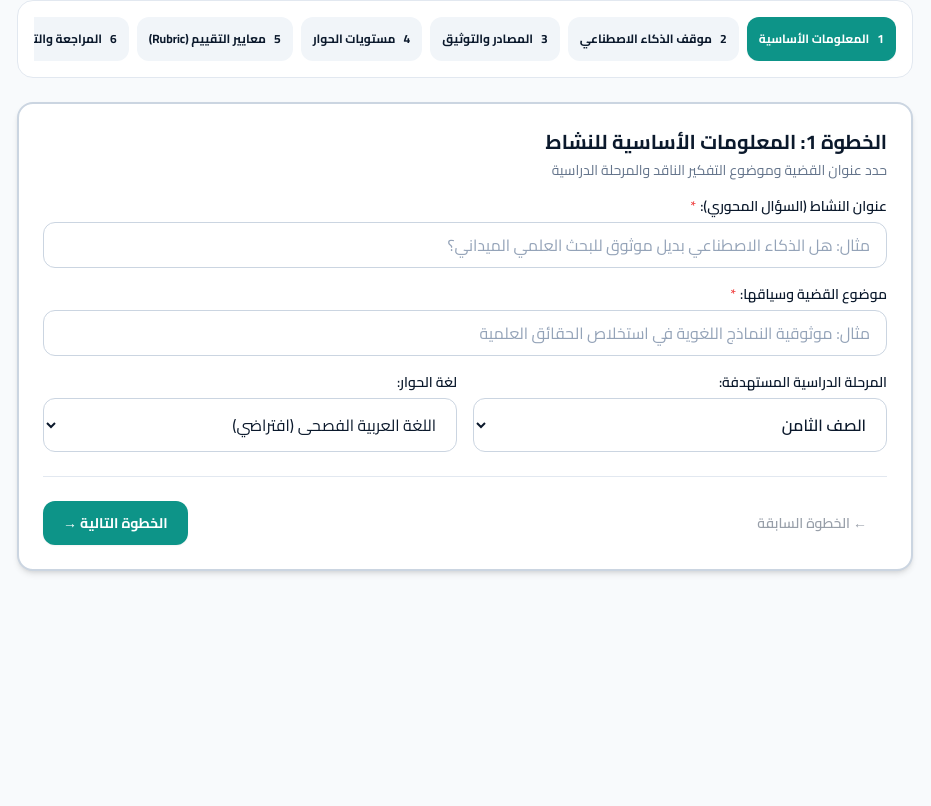
ActivityWizard Draft vs Activation UX & Accessibility › 4. Live Rubric Weight Total Announcement: announces total as "المجموع: X من 100" with aria-live status
# Navigate to step 5: Rubric
Click the button "5 معايير التقييم (Rubric)" at (215, 39), box left=137, top=17, right=293, bottom=61
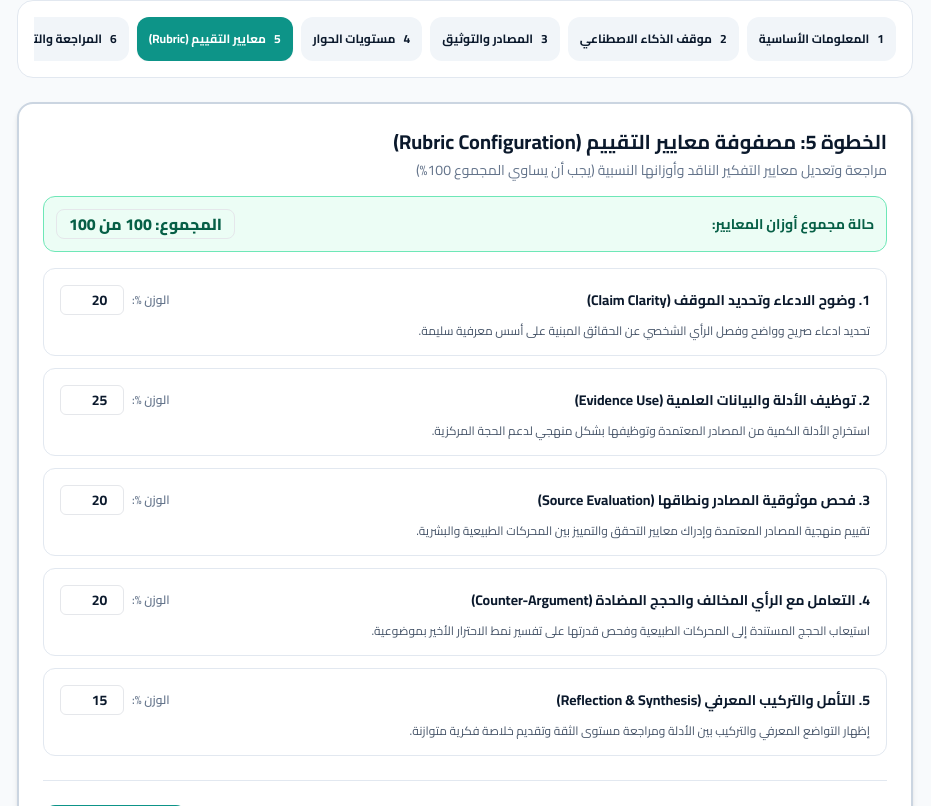
Check: the message shows "المجموع: 100 من 100", box left=43, top=196, right=887, bottom=252
# Change a weight from 30 to 50
Replace the text in the 1st number field labelled "الوزن %:" with "50" at (92, 300), box left=60, top=285, right=124, bottom=315
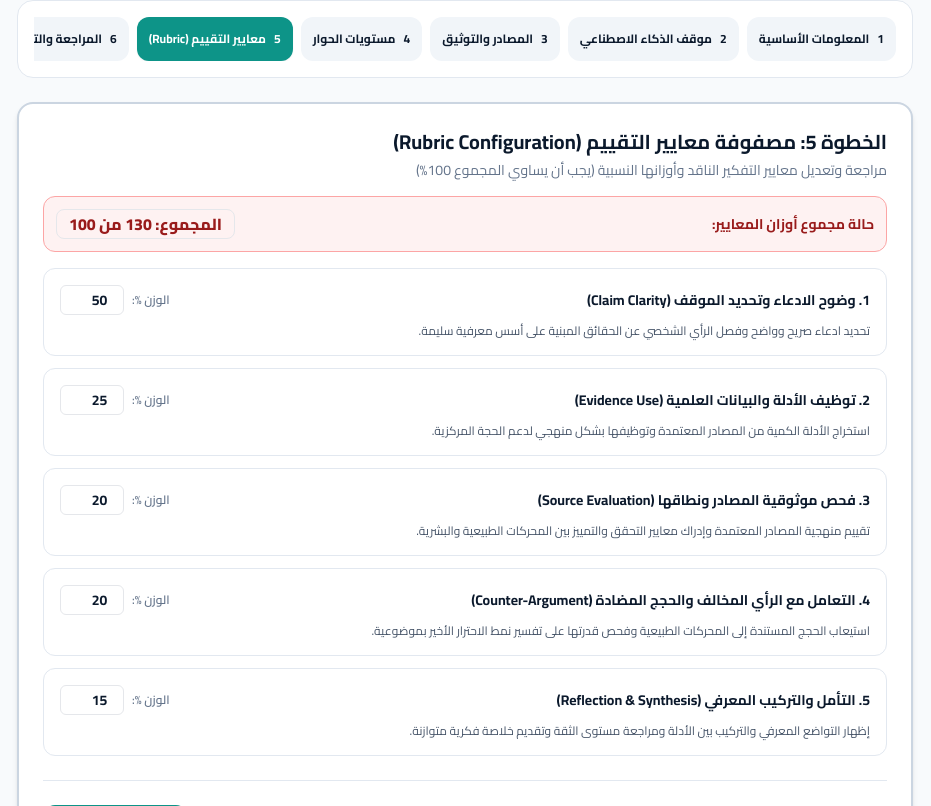
Check: the message shows "المجموع: 130 من 100", box left=43, top=196, right=887, bottom=252
